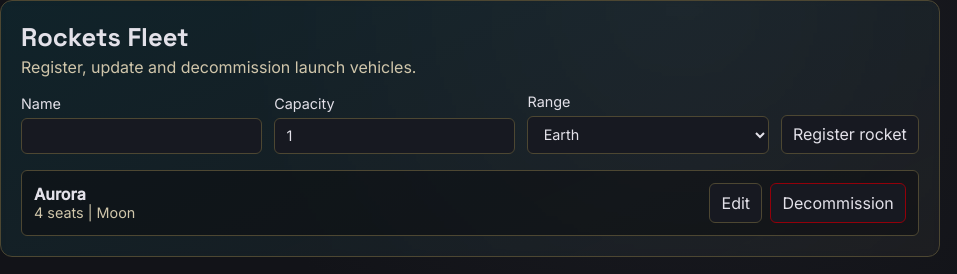
Test: decommissions a rocket
Click the button "Decommission" at (838, 203), box top-left (770, 183), bottom-right (906, 223)
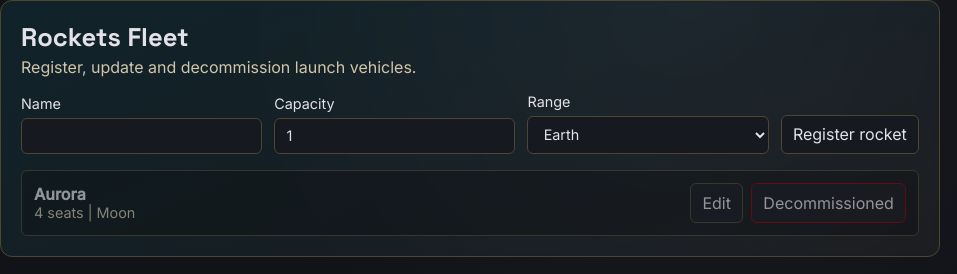
Expected: the button "Decommissioned" is disabled, top-left (751, 183), bottom-right (906, 223)
